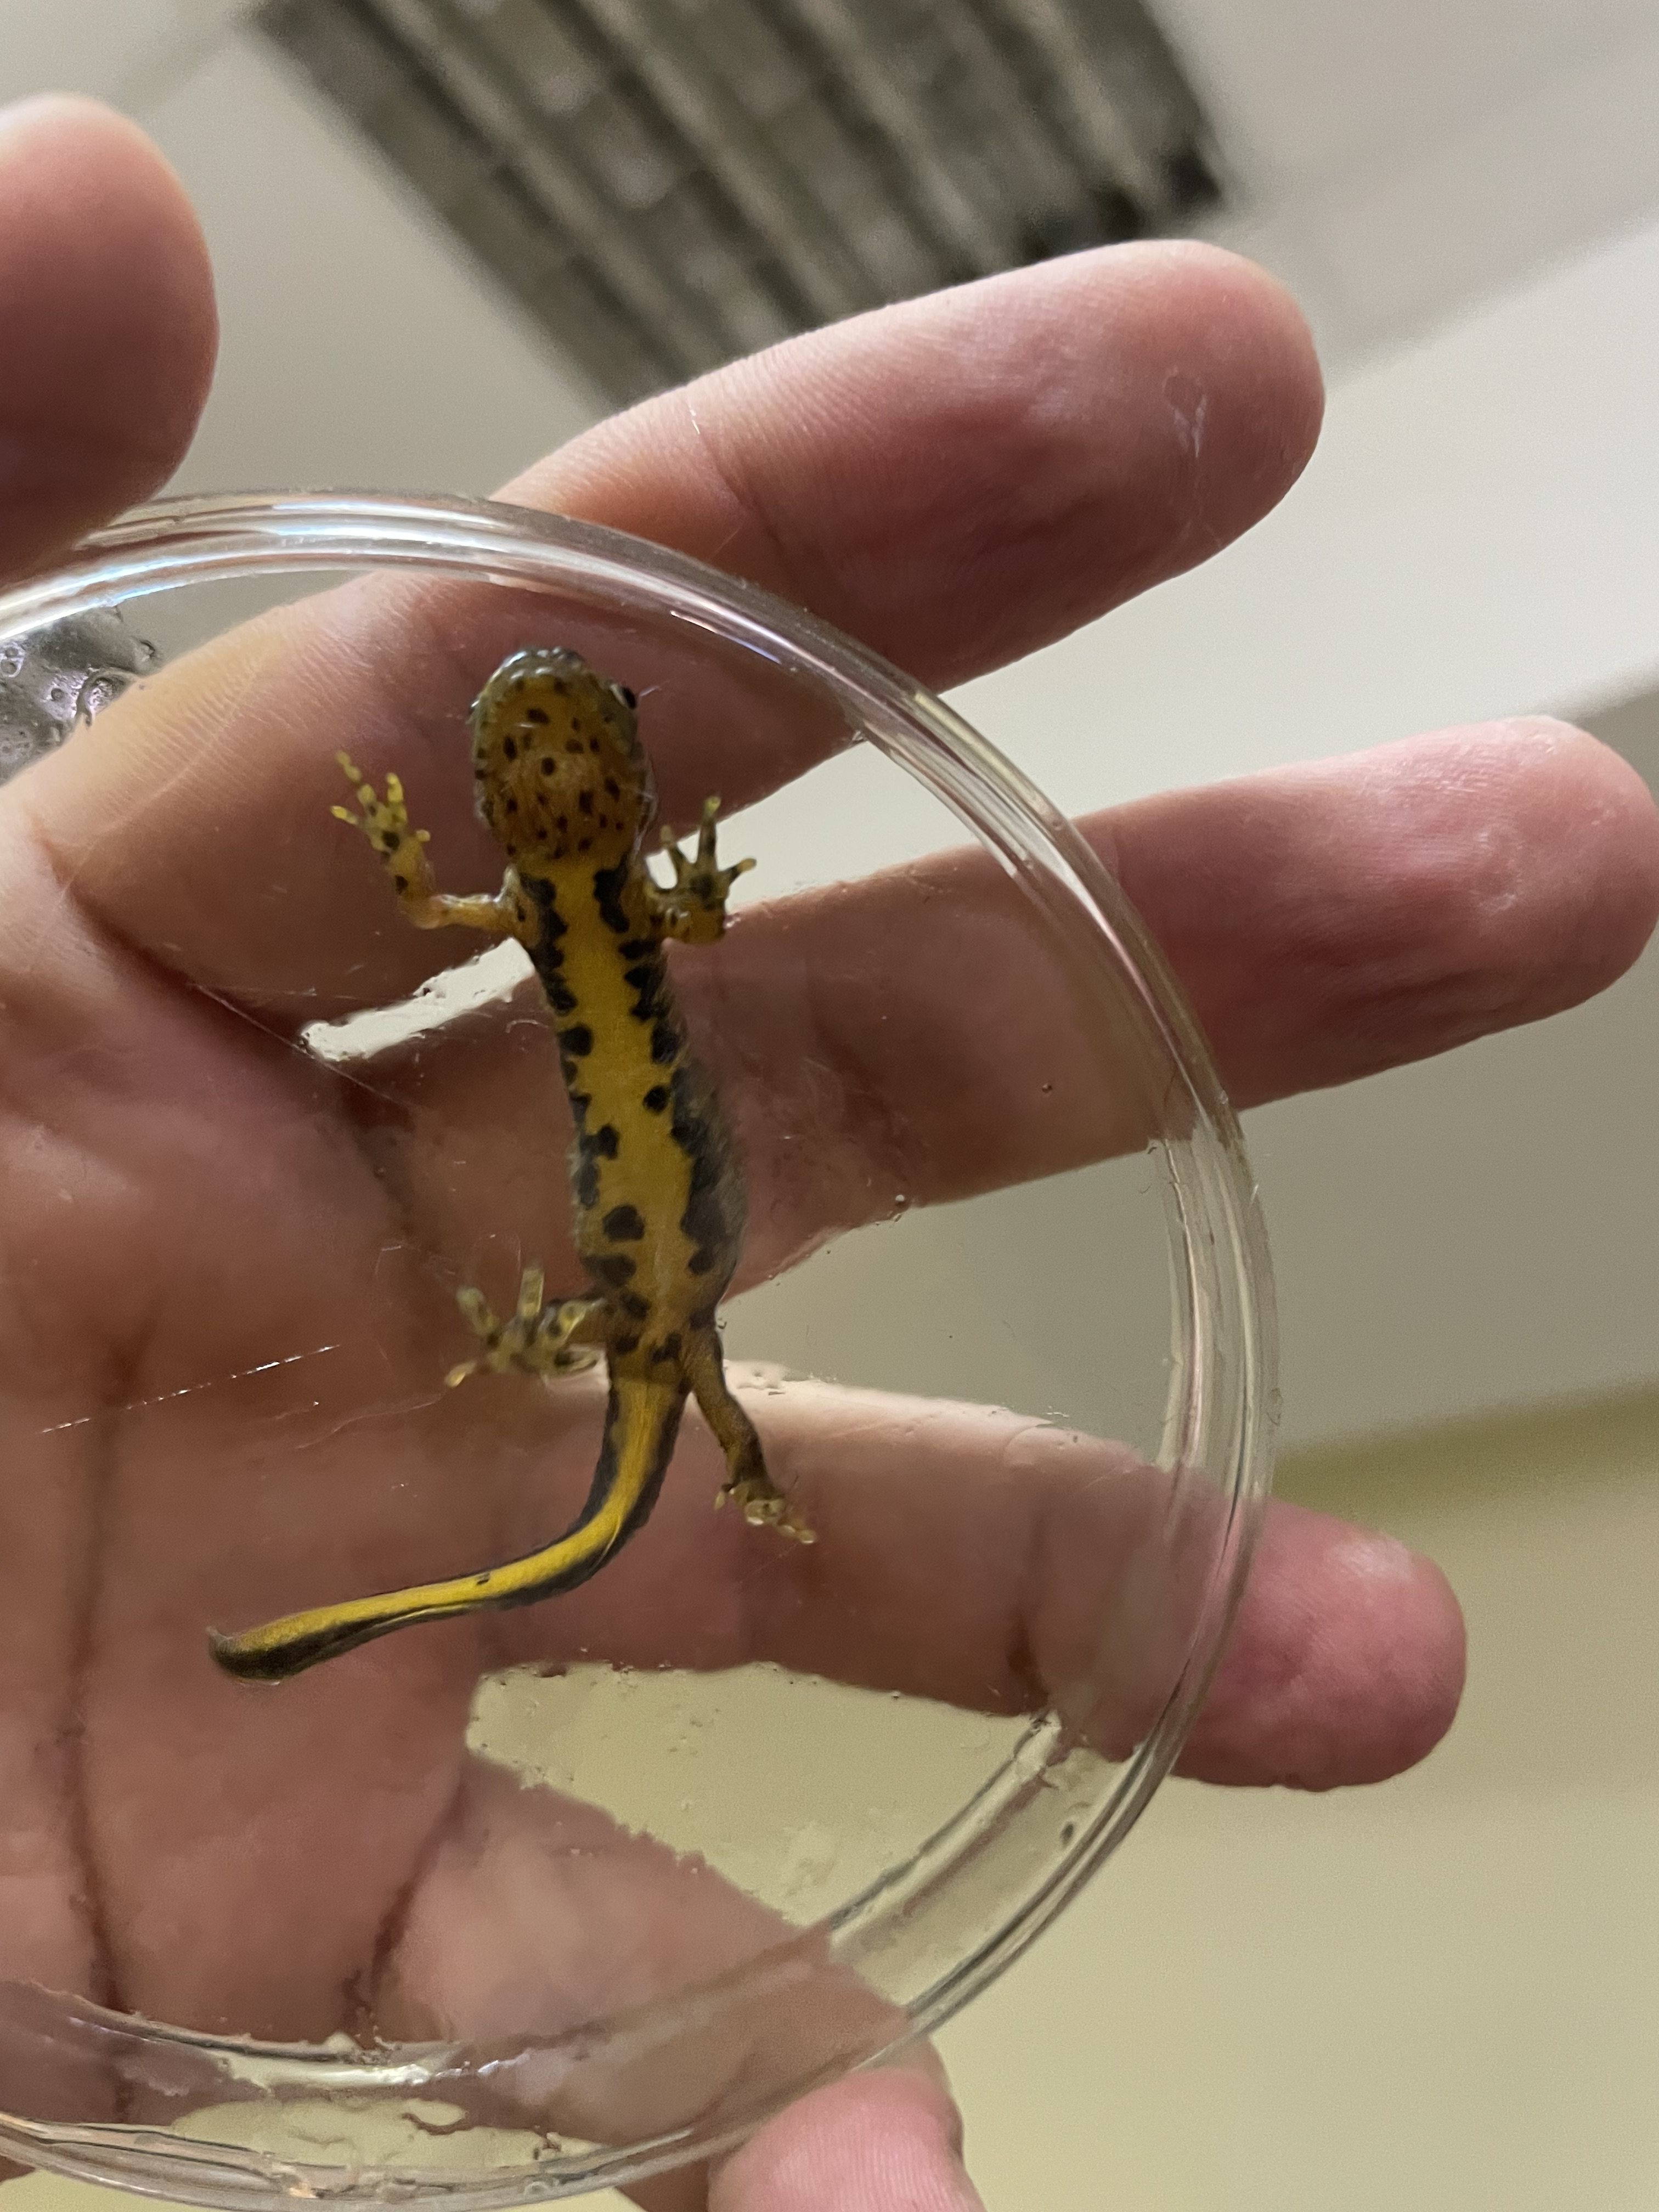Karelin_newt: (512, 930, 748, 1313)
